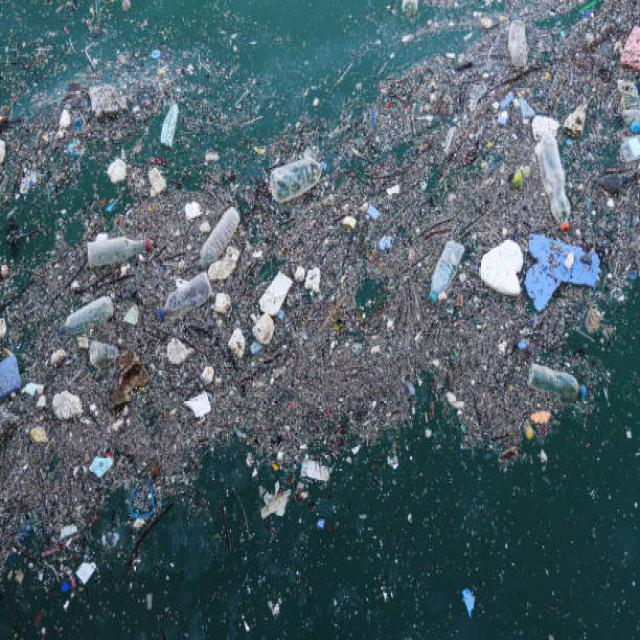garbage: (67, 210, 312, 355), (425, 177, 612, 344)
